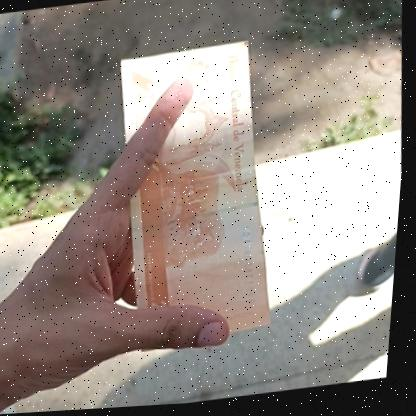twenty-back-vef: (105, 41, 290, 359)
